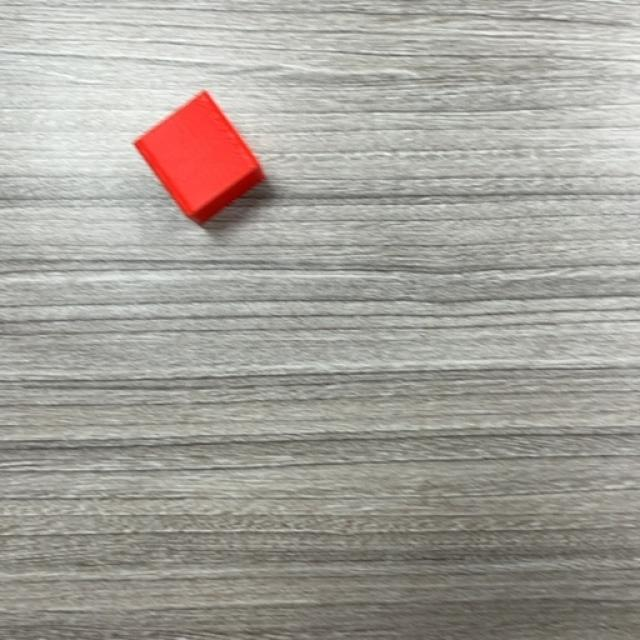Rojo: (131, 92, 268, 228)
